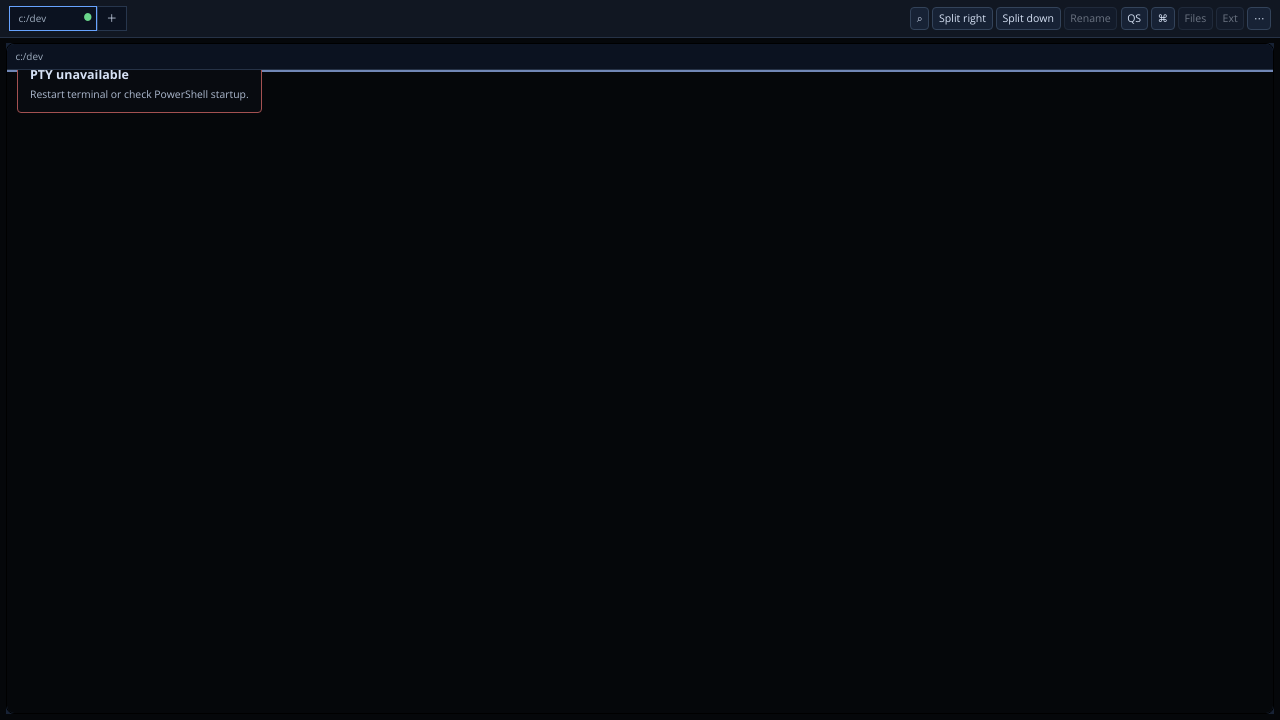
Test: persistent terminal terminal-state notices › shows a read failure without prior output and clears it on pane restart
Expected: the number of messages is 1, [17,55,262,113]
Expected: the message shows "PTY unavailable", [30,66,129,83]
Click the button named "Open terminal actions menu": (1259, 18) [1248,7,1271,30]
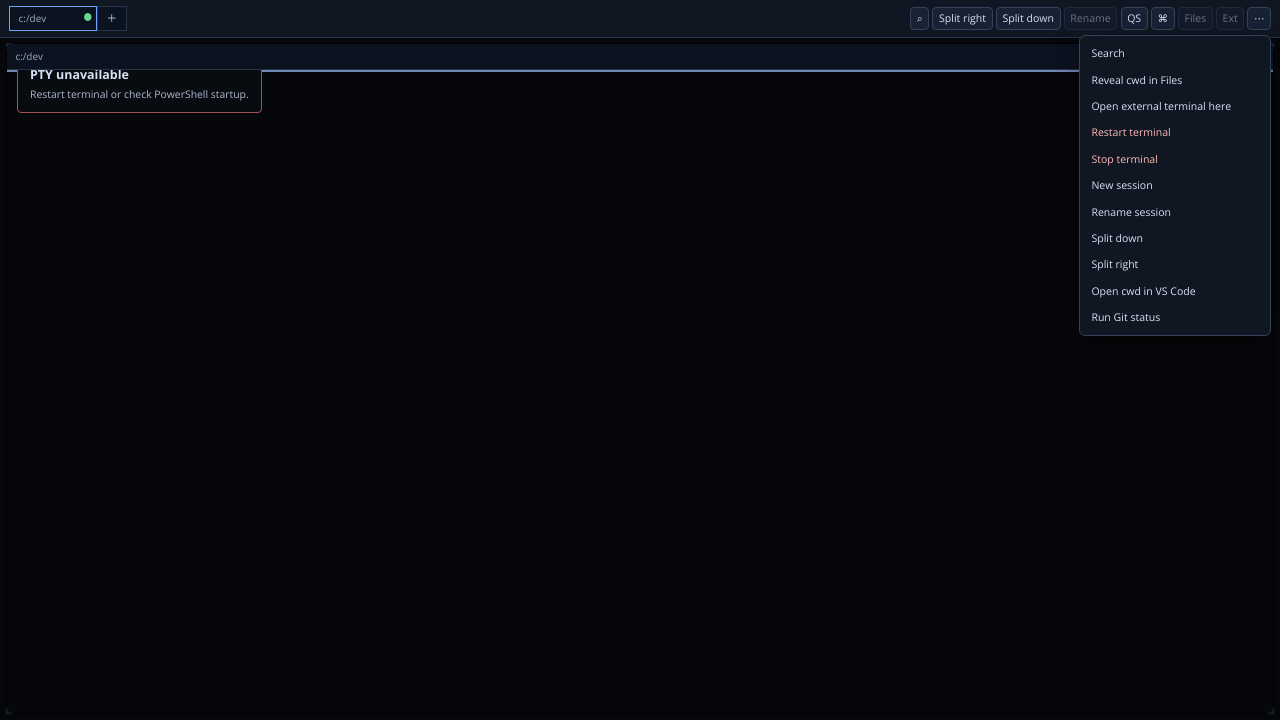
Click the menu item "Restart terminal": (1175, 133) [1086,121,1265,144]
Wait 1201 ms
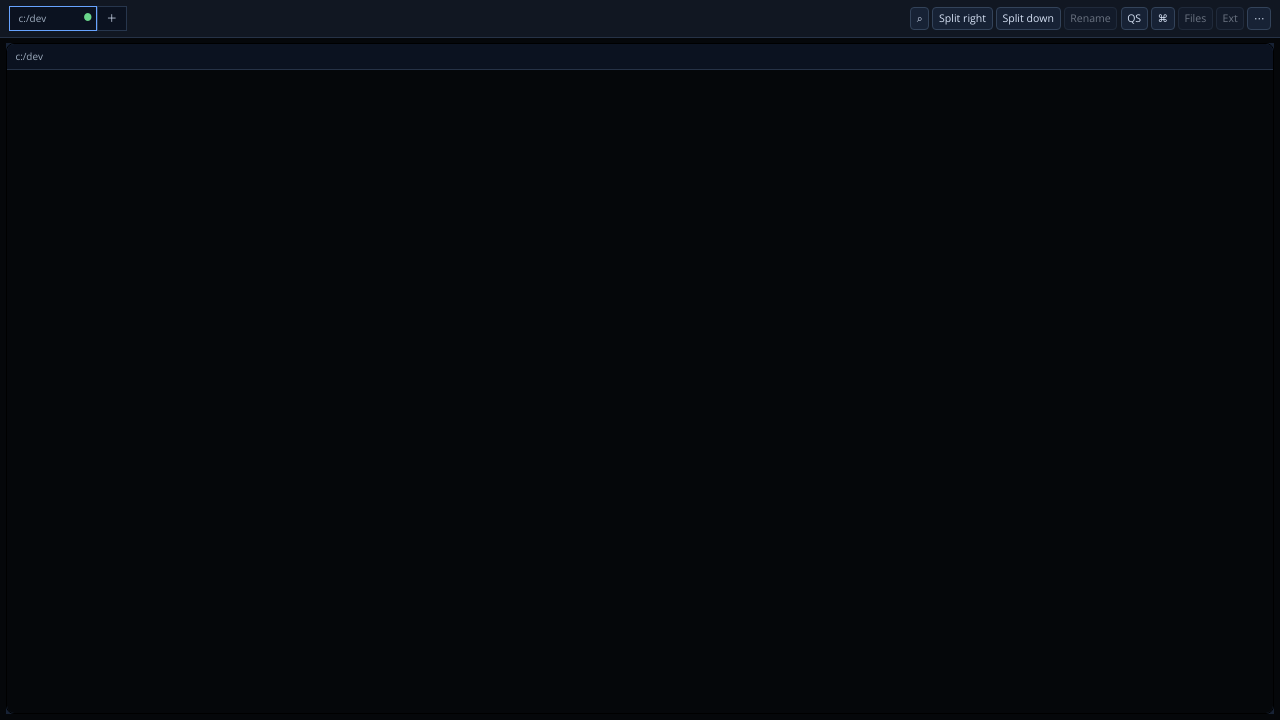
Now no messages are shown
